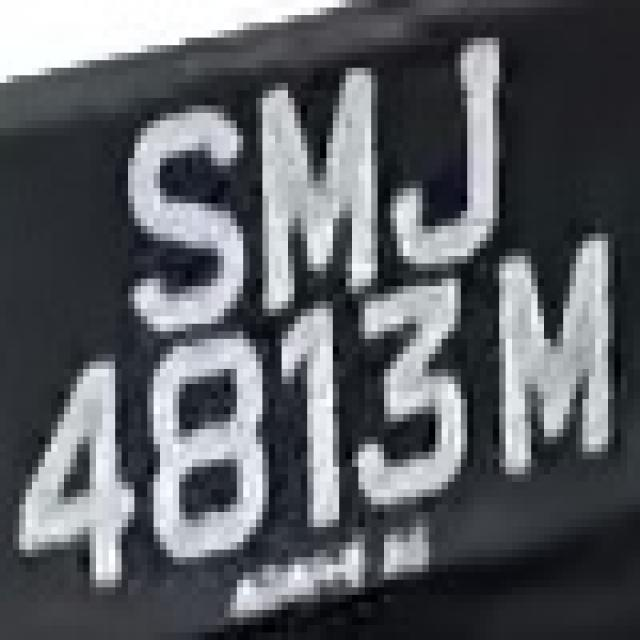1: (275, 301, 339, 565)
3: (346, 256, 460, 542)
4: (6, 331, 128, 625)
8: (141, 339, 275, 587)
J: (371, 15, 512, 316)
M: (243, 45, 397, 324), (474, 241, 620, 497)
S: (109, 68, 237, 361)
